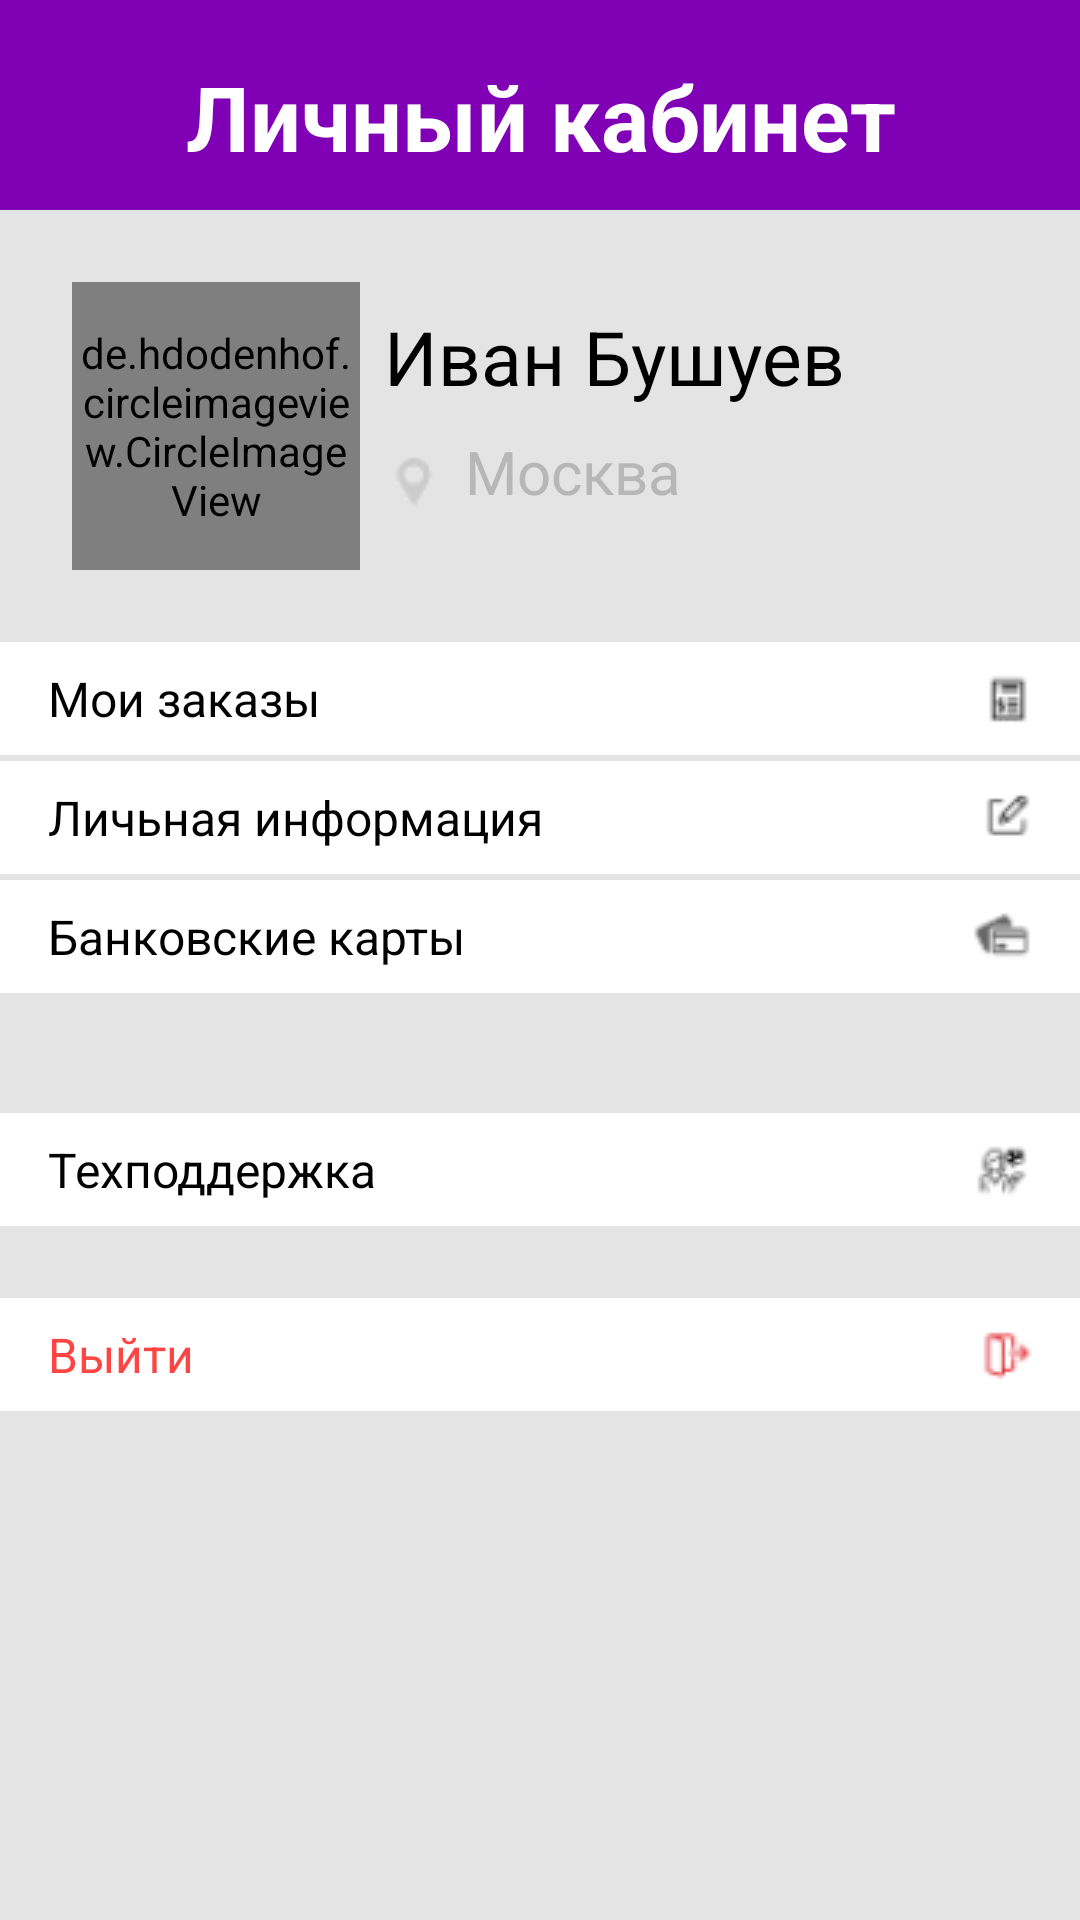

Icon bounding boxes for this 1080×1920 phone screenshot, format (x1, y1, x2, y2):
bank cards: (975, 913, 1029, 956)
go out: (984, 1332, 1030, 1379)
orders: (990, 677, 1026, 722)
personal information: (987, 795, 1029, 836)
tech support: (978, 1147, 1026, 1193)
